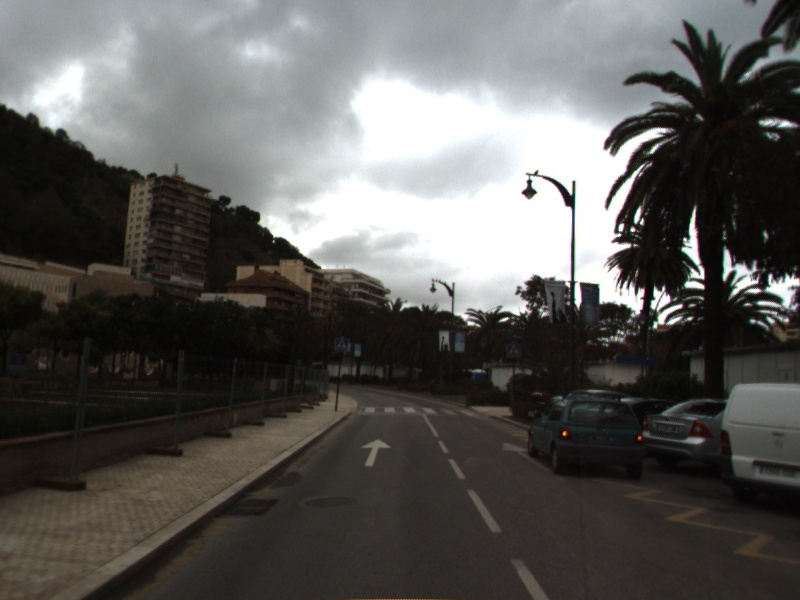STRAIGHT: (501, 440, 555, 473), (359, 436, 393, 468)
